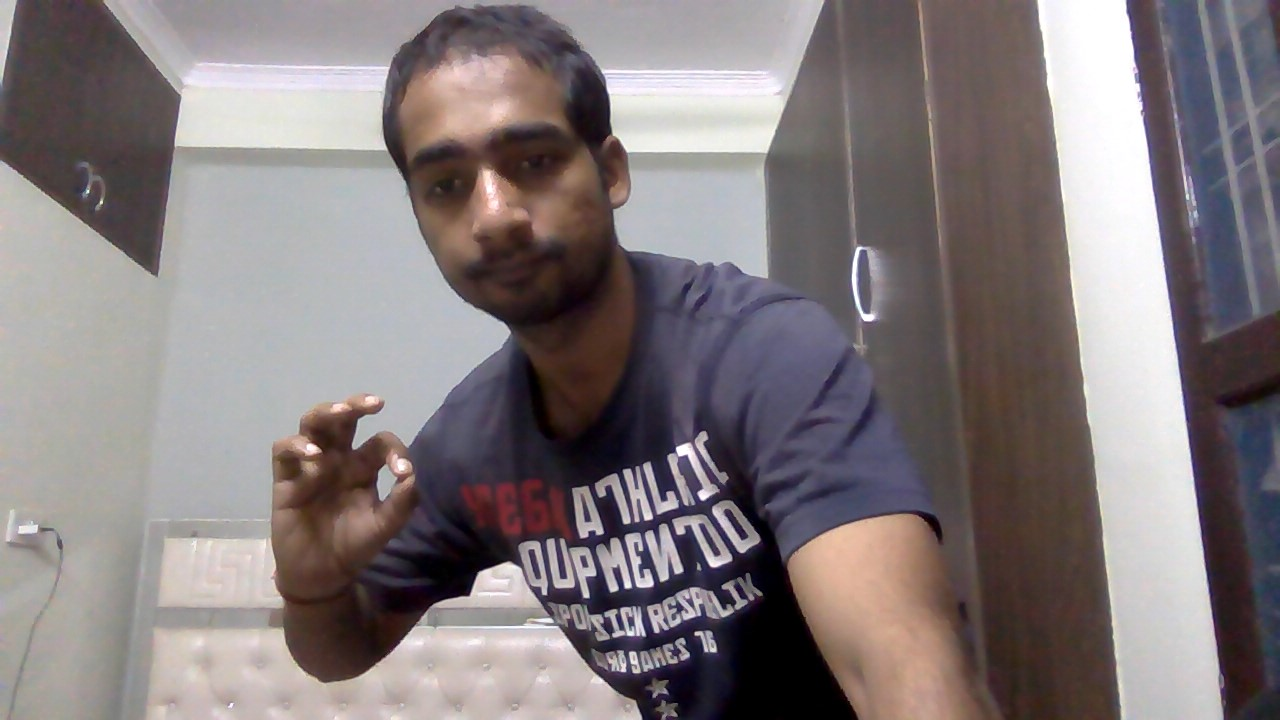Copy: (259, 383, 426, 612)
